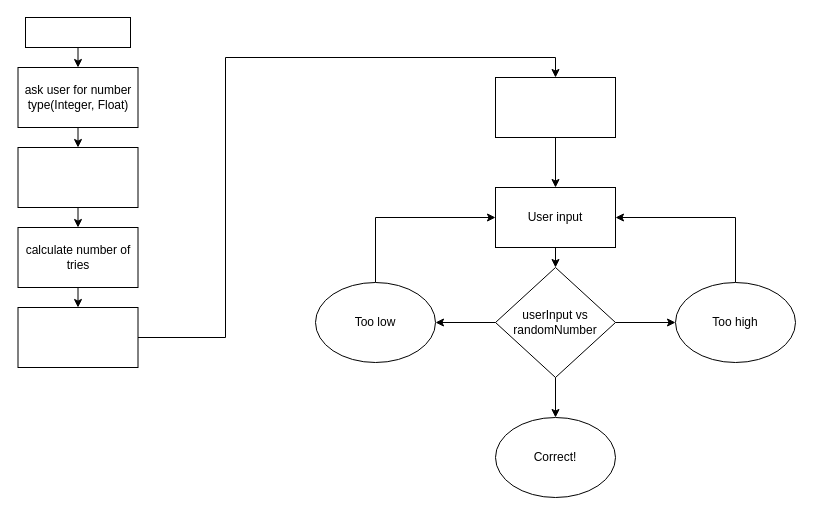
Some shapes in this 813 by 515 pixel diagram are drawn without their labels. Here are the shapes that lost their labels. From the top down, the centre of each, then its label:
At pixel 77 32: "Start".
At pixel 555 107: "Random number from range in current data type".
At pixel 77 177: "ask user for number of tries".
At pixel 77 337: "ask user for range".
